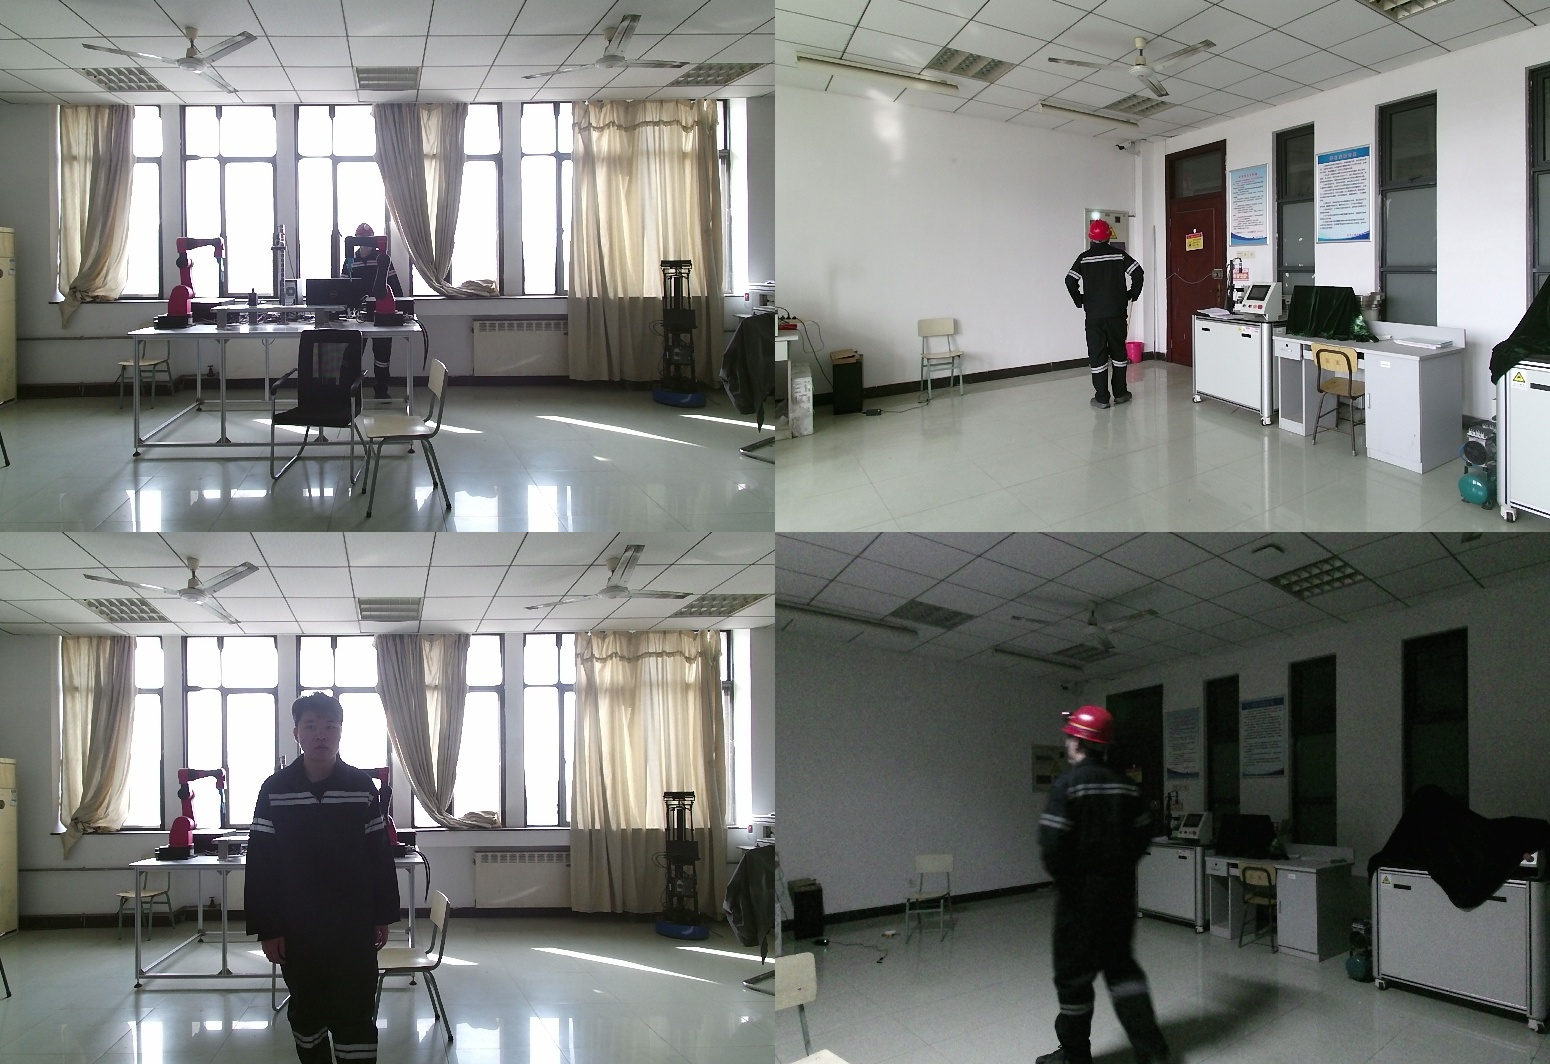person: (251, 697, 404, 1064), (1028, 705, 1173, 1064), (1065, 221, 1149, 420), (343, 224, 403, 398)
